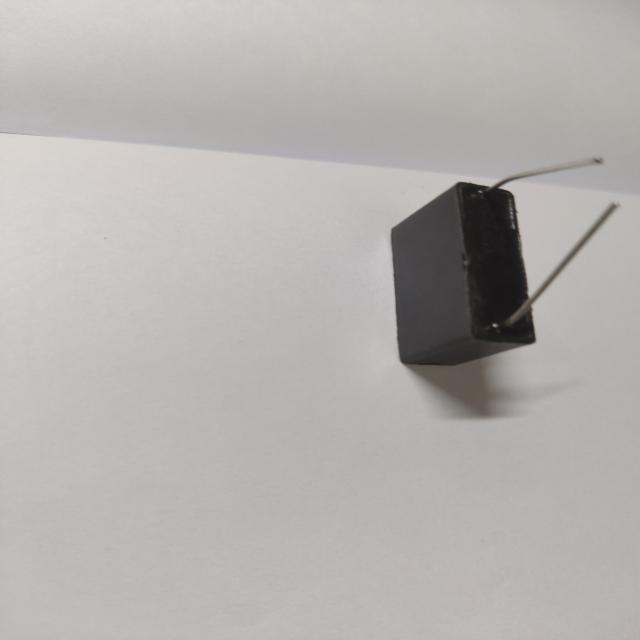capacitor: (373, 142, 626, 386)
